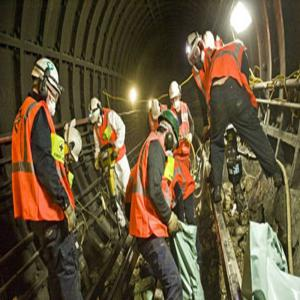white: (32, 58, 60, 116), (186, 32, 205, 72), (88, 99, 104, 127), (170, 82, 183, 111), (152, 98, 162, 121)
